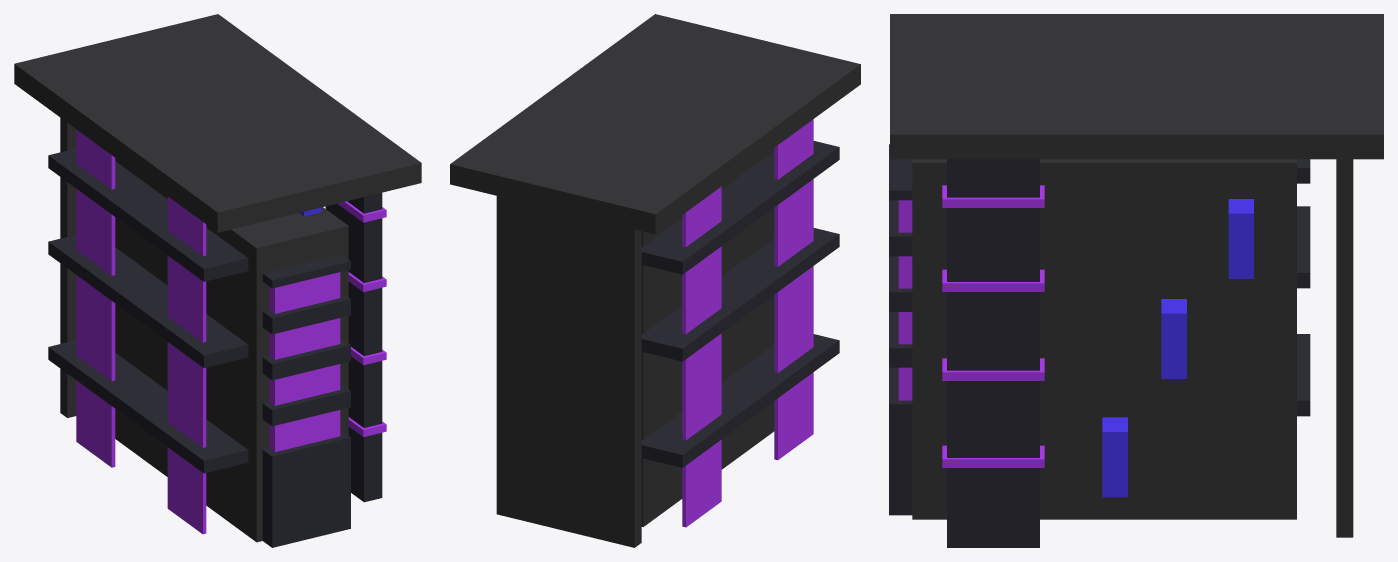
Rendered from NC_Sci-fi05.fbx.
3 renders of one model, left to right at view 1: azimuth 30°, elevation 25°; view 2: azimuth 150°, elevation 25°; view 3: azimuth 270°, elevation 25°, orthographic. The views are drawn at different scales.
Parts seen in each view (by area): view 1: NC_Sci_fi05; view 2: NC_Sci_fi05; view 3: NC_Sci_fi05.
Part boxes in pixels (box(x1,y1,x2,y2)): NC_Sci_fi05: box(14, 14, 421, 547); NC_Sci_fi05: box(450, 14, 860, 547); NC_Sci_fi05: box(889, 14, 1383, 547).
Bounding box in the file's own units: 154 × 251 × 266.
1 material, 1 textured.
